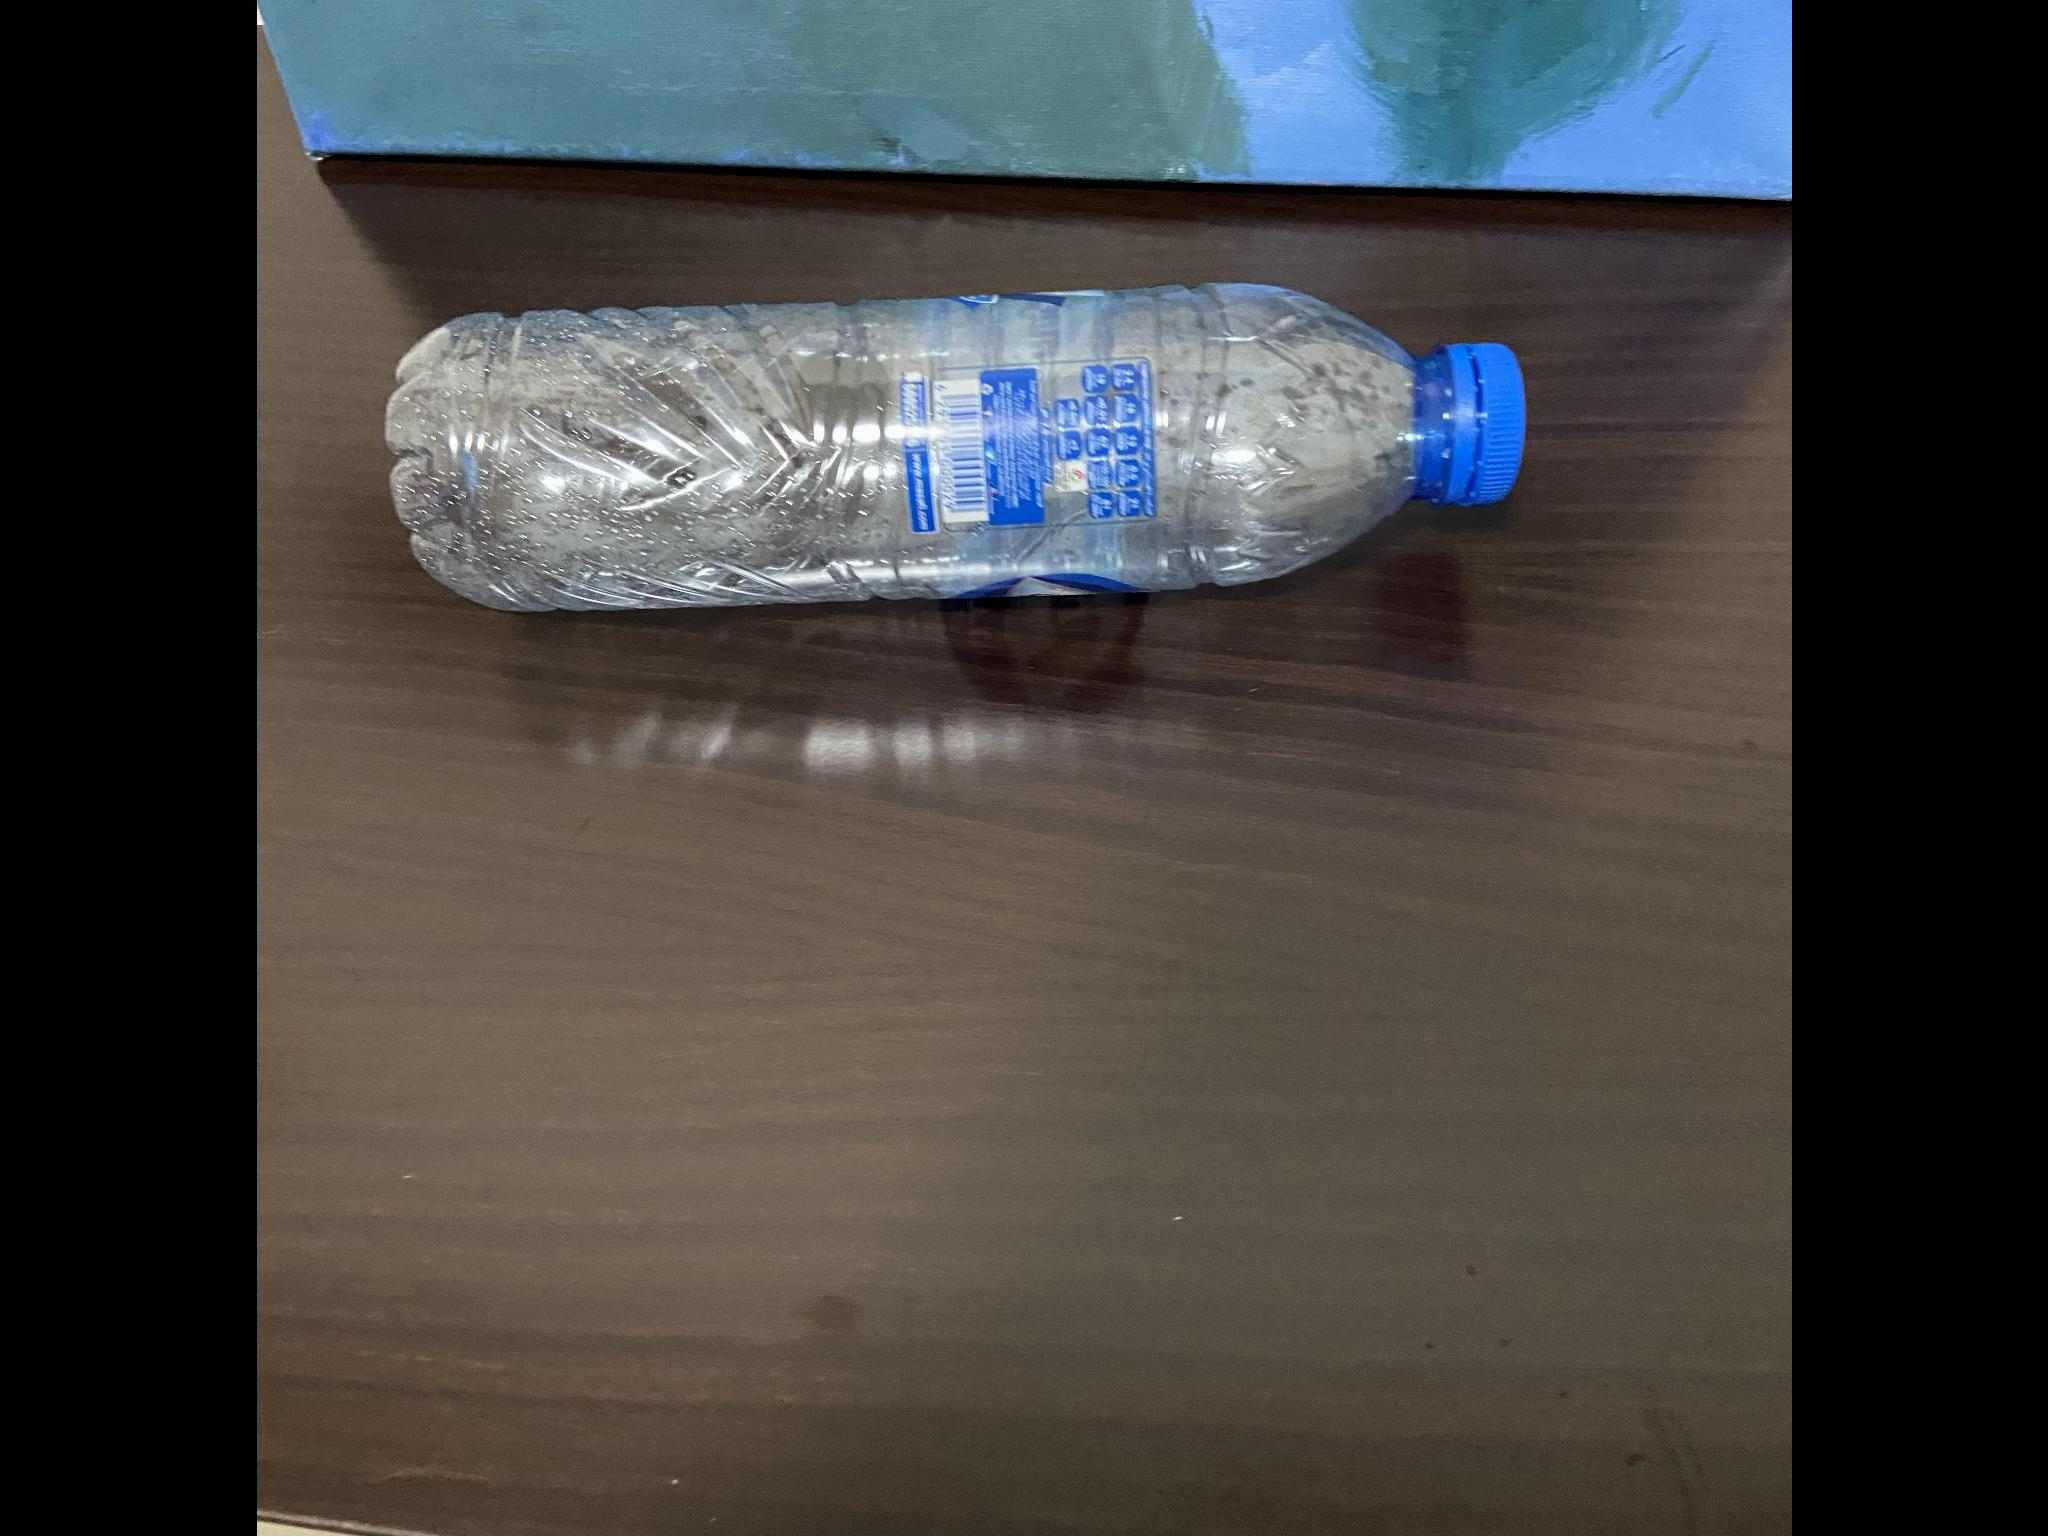bottle: (381, 245, 1538, 636)
